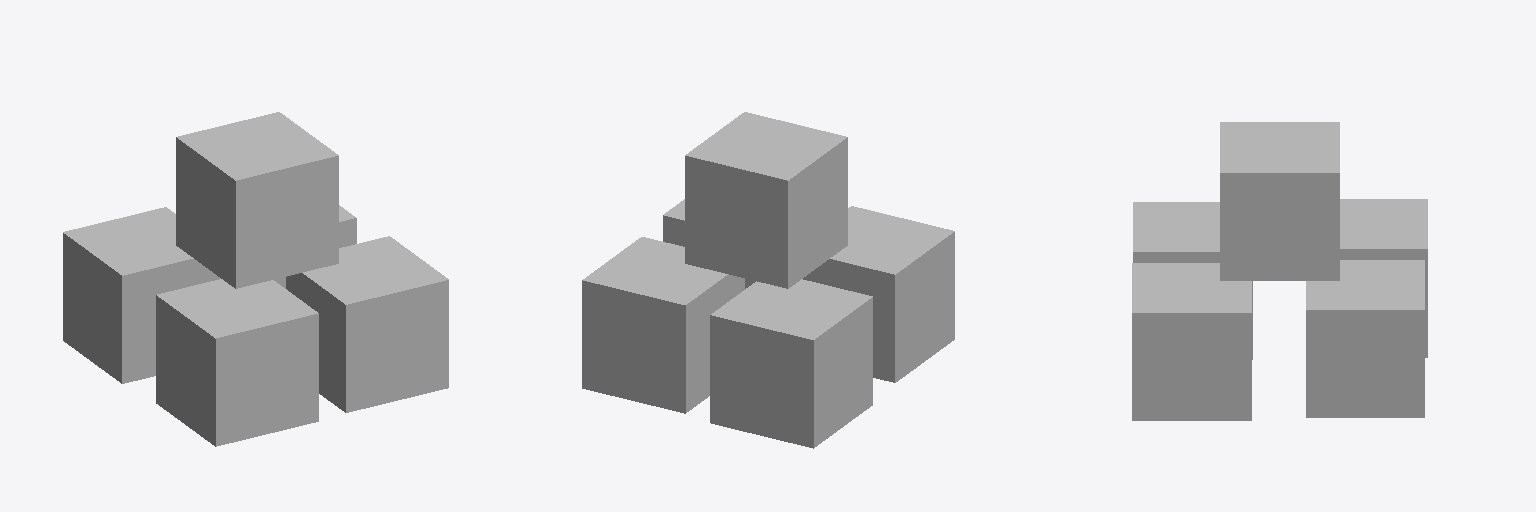
The model's file is 43563-asset-collection-test.obj.
The picture shows the model from 3 angles: view 1: azimuth 30°, elevation 25°; view 2: azimuth 150°, elevation 25°; view 3: azimuth 270°, elevation 25°; orthographic projection.
Parts seen in each view (by area): view 1: Cube-colonly_Cube.001; view 2: Cube-colonly_Cube.001; view 3: Cube-colonly_Cube.001.
Part boxes in pixels (x1,y1,x2,y2): Cube-colonly_Cube.001: (63,112,448,446); Cube-colonly_Cube.001: (582,112,954,448); Cube-colonly_Cube.001: (1132,122,1427,420).
Bounding box in the file's own units: 4.97 × 4.35 × 5.33.